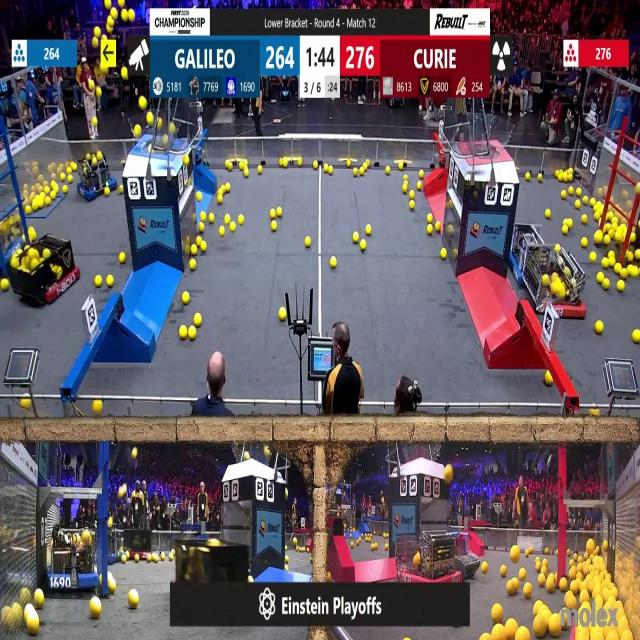ball_airborne: (445, 464, 454, 481), (139, 97, 147, 111), (100, 61, 108, 74), (134, 126, 142, 138), (120, 67, 127, 80), (146, 112, 153, 124), (122, 486, 128, 499), (107, 15, 114, 26), (110, 7, 117, 18), (129, 8, 135, 20), (120, 9, 126, 21), (163, 136, 170, 146), (89, 80, 96, 90), (117, 0, 124, 9), (158, 119, 165, 128), (95, 28, 101, 38), (94, 38, 100, 48), (170, 125, 176, 134), (93, 116, 99, 125), (105, 0, 111, 9), (242, 450, 248, 459), (133, 449, 138, 459), (183, 157, 188, 167), (266, 448, 271, 458), (108, 518, 113, 528), (636, 183, 640, 195), (97, 89, 102, 98)
ball_ground: (550, 618, 562, 640), (28, 616, 40, 636), (91, 598, 102, 618), (35, 590, 45, 609), (130, 591, 140, 609), (492, 604, 502, 622), (565, 594, 576, 609), (524, 584, 532, 600), (544, 372, 552, 387), (279, 308, 287, 322), (187, 326, 195, 340), (94, 399, 102, 413), (545, 580, 553, 594), (506, 582, 514, 596), (512, 548, 520, 562), (630, 267, 639, 279), (596, 321, 604, 334), (108, 581, 116, 594), (627, 250, 635, 263), (193, 314, 200, 328), (180, 325, 187, 339), (1, 279, 9, 291), (618, 280, 626, 292), (559, 580, 567, 592), (570, 581, 578, 593), (633, 331, 640, 344), (29, 229, 36, 242), (602, 279, 610, 290), (22, 397, 30, 408), (594, 233, 602, 244), (107, 275, 114, 287), (224, 162, 232, 172), (330, 255, 336, 268), (118, 252, 125, 263), (188, 261, 195, 272), (499, 565, 506, 576), (482, 562, 489, 573), (621, 269, 628, 280), (182, 291, 188, 303), (442, 248, 448, 260), (269, 209, 277, 218), (590, 252, 597, 262), (189, 246, 196, 256), (582, 238, 589, 248), (596, 274, 603, 284), (603, 235, 610, 245), (603, 222, 610, 232), (555, 170, 562, 180), (96, 276, 102, 287), (520, 568, 526, 579), (538, 574, 544, 585), (634, 249, 640, 260), (44, 198, 51, 207), (272, 220, 278, 230), (544, 209, 550, 219), (306, 238, 312, 248), (219, 225, 225, 235), (238, 215, 244, 225), (401, 182, 407, 192), (602, 257, 608, 267), (195, 190, 201, 200), (434, 222, 440, 232), (364, 224, 370, 234), (616, 265, 622, 275), (201, 242, 207, 252), (630, 234, 636, 244), (524, 173, 531, 181), (482, 633, 490, 640), (594, 212, 601, 220), (591, 411, 599, 418), (428, 223, 433, 234), (353, 233, 358, 244), (427, 214, 433, 223), (410, 201, 416, 210), (217, 194, 223, 203), (574, 201, 580, 210), (583, 214, 589, 223), (120, 555, 126, 564), (50, 181, 56, 190), (568, 186, 574, 195), (360, 241, 365, 251), (419, 171, 425, 179), (68, 175, 74, 183), (117, 185, 123, 193), (410, 190, 416, 198), (49, 190, 55, 198), (61, 174, 67, 182), (584, 198, 590, 206), (194, 237, 200, 245), (26, 207, 32, 215), (147, 556, 153, 564), (224, 215, 229, 224), (563, 224, 568, 233), (232, 222, 237, 231), (200, 222, 205, 231), (201, 212, 206, 221), (277, 208, 282, 217), (135, 555, 140, 564), (224, 183, 229, 192), (556, 244, 561, 253), (535, 562, 540, 571), (453, 248, 458, 257), (244, 169, 249, 177), (105, 187, 110, 195), (248, 575, 253, 583), (353, 168, 358, 176), (313, 163, 318, 171), (296, 160, 301, 168), (284, 556, 289, 564), (162, 554, 167, 562), (240, 162, 245, 170), (324, 165, 328, 174), (537, 175, 542, 182), (359, 169, 364, 176), (398, 165, 403, 172), (575, 188, 580, 195), (219, 185, 224, 192), (210, 214, 214, 222), (418, 182, 422, 190), (257, 167, 261, 175), (562, 190, 566, 198), (64, 185, 68, 193), (328, 167, 332, 175), (564, 218, 568, 226), (284, 161, 288, 169), (347, 162, 352, 168), (386, 168, 390, 175), (403, 174, 407, 181), (170, 555, 174, 561), (385, 543, 389, 549)
goal: (459, 118, 516, 158), (129, 121, 187, 152)
robot_blue: (46, 531, 101, 590), (508, 224, 551, 286), (78, 154, 117, 203), (1, 213, 27, 267)
robot_red: (13, 239, 80, 307), (522, 253, 588, 320), (410, 529, 460, 586), (125, 529, 156, 559)
